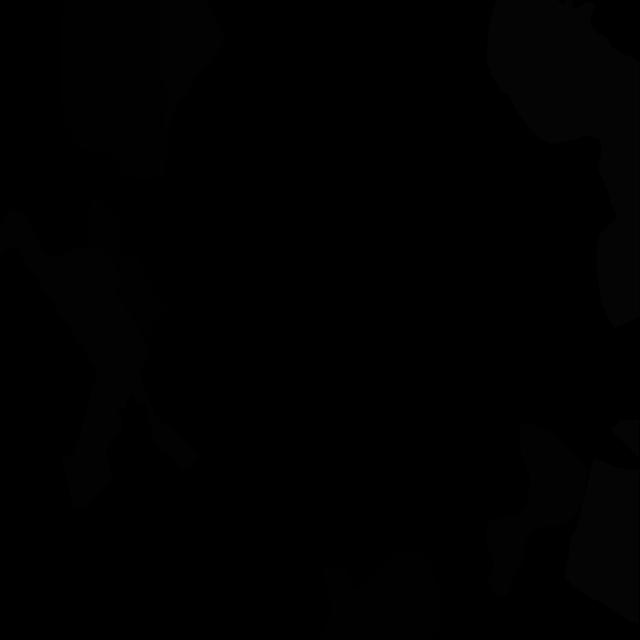cardboard: (0, 209, 200, 509), (486, 422, 586, 598), (158, 0, 226, 132)
rigid_plastic: (60, 0, 166, 180), (84, 193, 168, 339), (320, 550, 442, 640)
soft_plastic: (487, 0, 640, 328), (564, 458, 639, 624), (611, 419, 639, 458)
